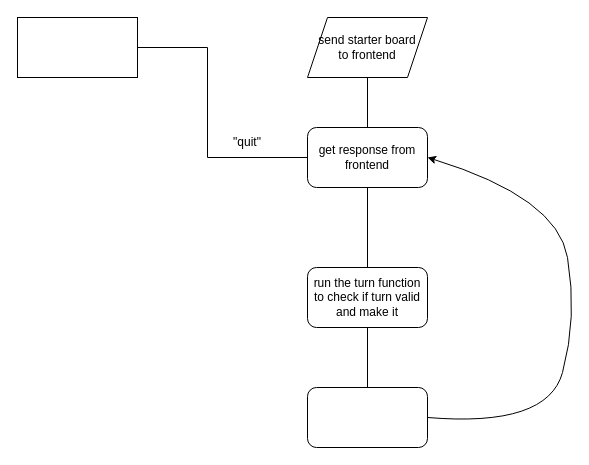
This 589x465 diagram has some shape labels left out. Here are the shapes that lost their labels. From the top down, the centre of each, then its label:
At (77,47): "exit".
At (367,417): "send the code from turn back to frontend".
